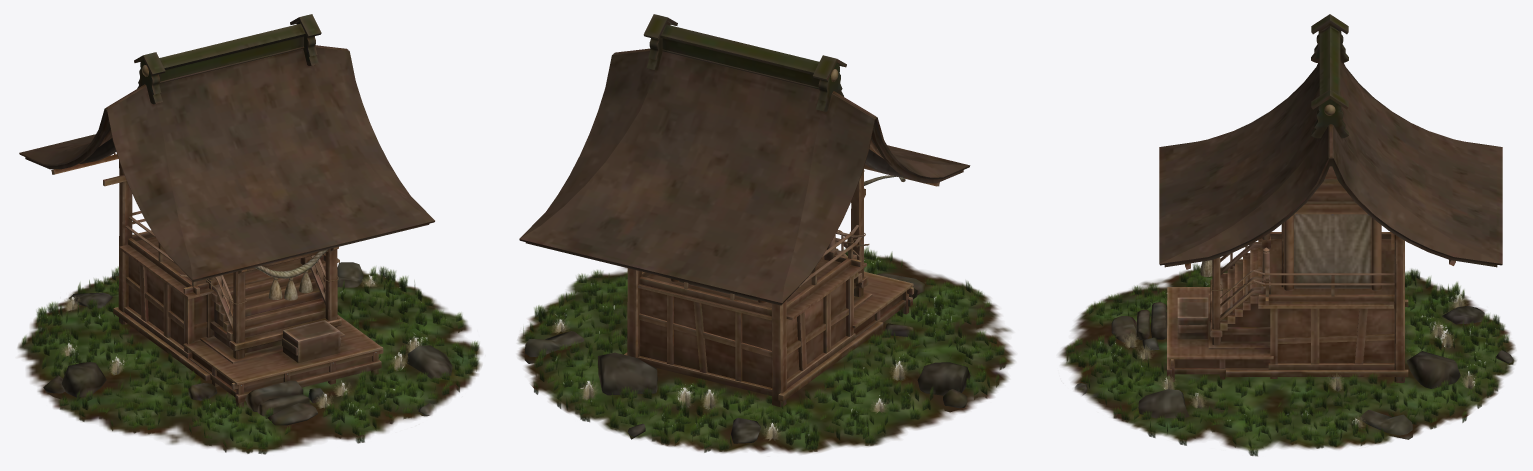
File: houses.glb
3 views of the same model, side by side, from view 1: azimuth 30°, elevation 25°; view 2: azimuth 150°, elevation 25°; view 3: azimuth 270°, elevation 25° (orthographic). The views are drawn at different scales.
Parts seen in each view (by area): view 1: polySurface1168_lambert1_0; view 2: polySurface1168_lambert1_0; view 3: polySurface1168_lambert1_0.
Part boxes in pixels (x1=…): polySurface1168_lambert1_0: x1=17, y1=14, x2=482, y2=454; polySurface1168_lambert1_0: x1=517, y1=14, x2=1014, y2=453; polySurface1168_lambert1_0: x1=1059, y1=14, x2=1516, y2=456.
Size of the model in its own units: 921 by 674 by 921.
Materials: 82 (73 with a texture image).
